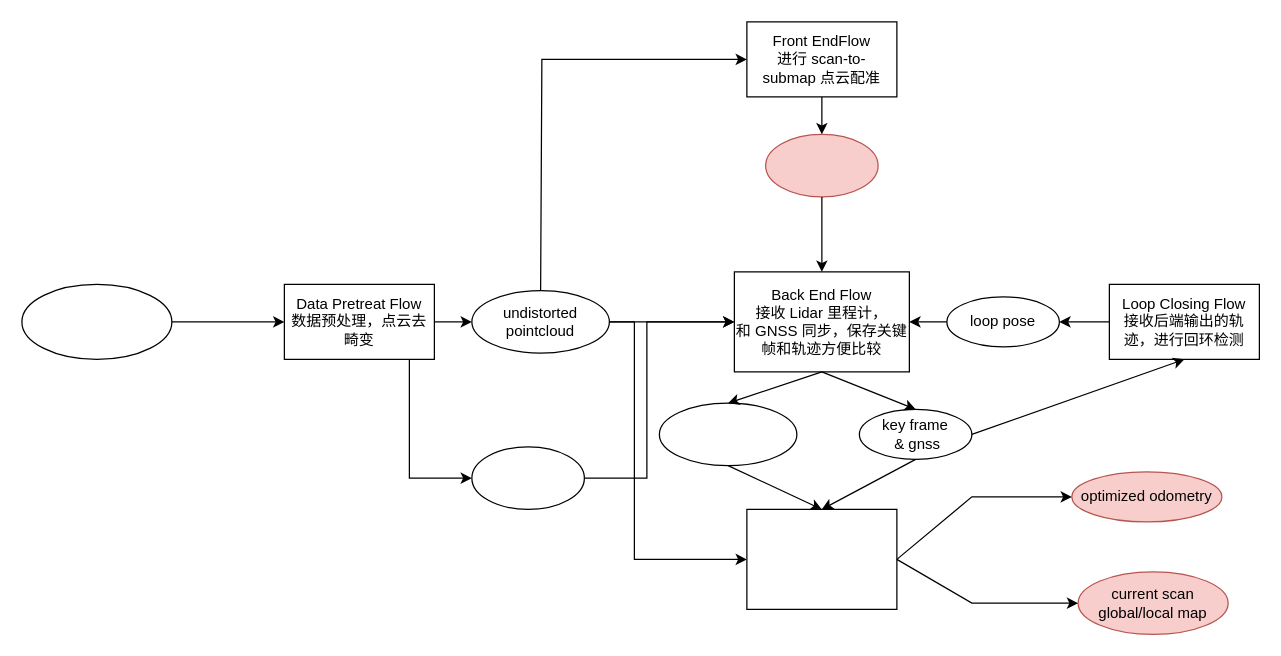
Some shapes in this 1281 by 656 pixel diagram are drawn without their labels. The centre of each missing label's shape, as x and y in pixels:
gnss: the point at 527,477
laser odometry: the point at 821,165
raw data (pointcloud, gnss, imu, etc): the point at 96,321
transformed odometry: the point at 727,434
VIewer Flow 接收优化后的里程计，以及关键帧，进行全局点云拼接获得局部和全局地图: the point at 821,558
